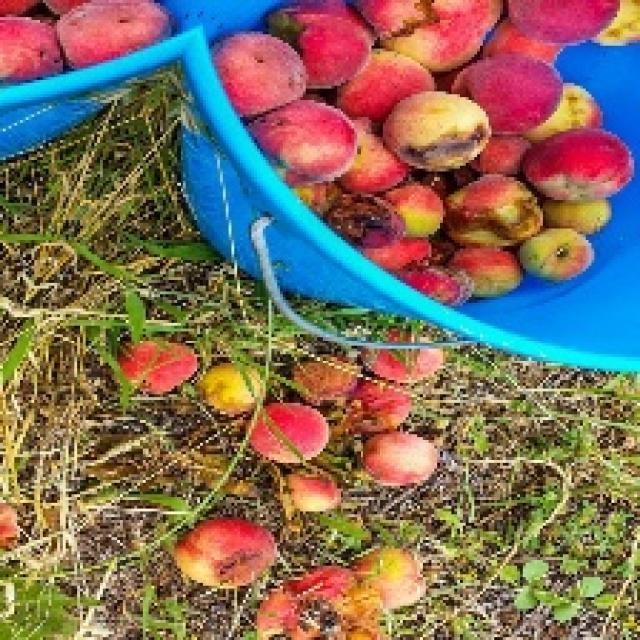rotten_apple: (361, 0, 494, 66), (387, 94, 485, 167), (447, 176, 542, 244), (176, 522, 272, 584), (257, 580, 329, 640), (320, 191, 401, 243), (346, 382, 411, 436), (404, 259, 474, 306), (292, 356, 356, 404)
